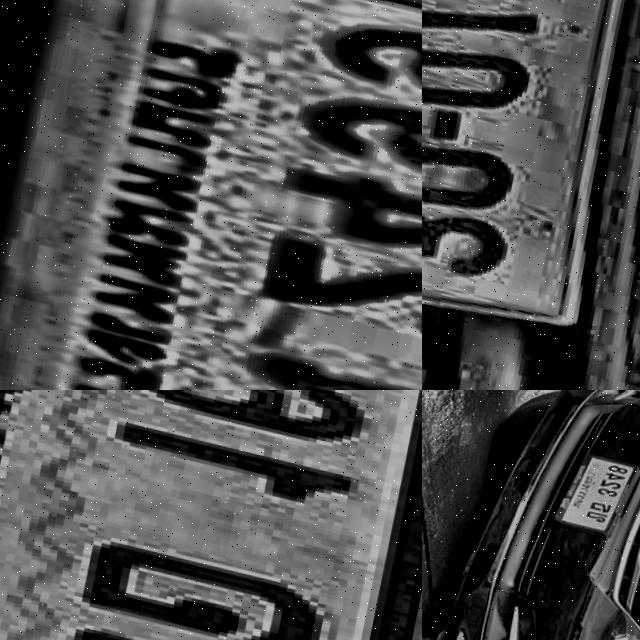license-plate: (0, 0, 422, 390), (0, 390, 422, 640), (422, 0, 640, 377), (546, 439, 640, 540)
